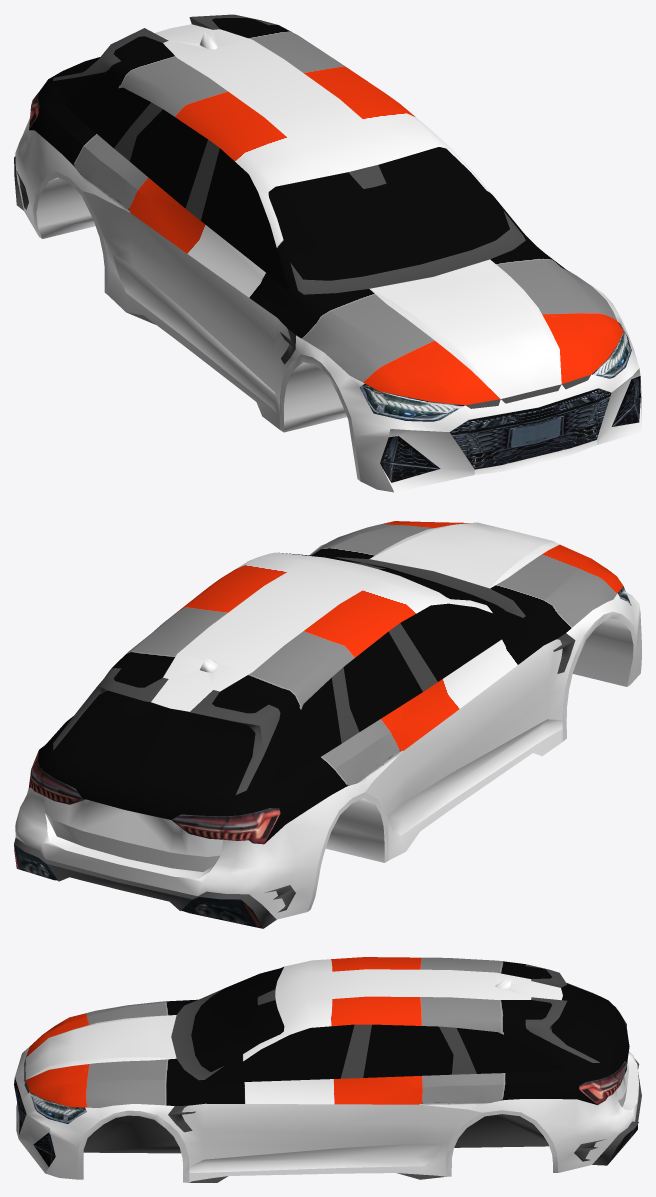
Rendered from GermanSuperEstate.fbx.
3 renders of one model, top to bottom at view 1: azimuth 30°, elevation 25°; view 2: azimuth 150°, elevation 25°; view 3: azimuth 270°, elevation 25°, orthographic. The views are drawn at different scales.
Parts seen in each view (by area): view 1: Plane; view 2: Plane; view 3: Plane.
Boxes of the visible parts, bbox=[...] form: Plane: bbox=[14, 14, 641, 492]; Plane: bbox=[14, 521, 641, 928]; Plane: bbox=[14, 957, 641, 1182].
Size of the model in its own units: 128 by 88.97 by 330.
4 materials, 2 textured.
